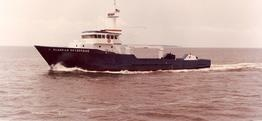otherboat: (29, 1, 214, 72)
